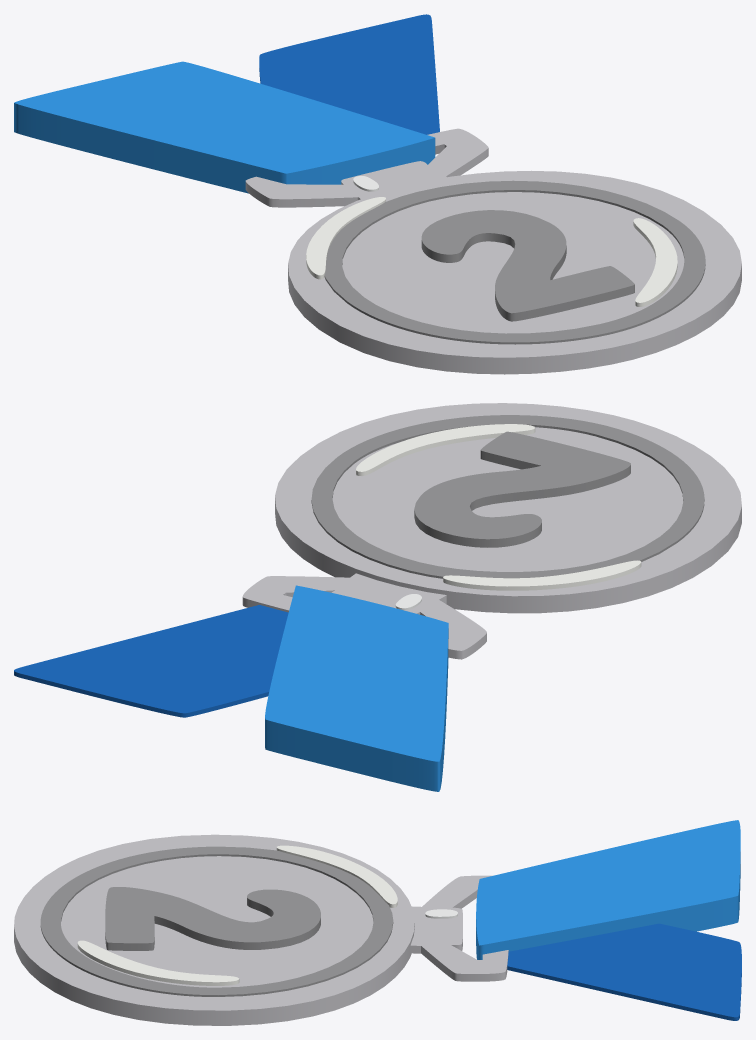
Rendered from emoji_u1f948.glb.
3 renders of one model, top to bottom at view 1: azimuth 30°, elevation 25°; view 2: azimuth 150°, elevation 25°; view 3: azimuth 270°, elevation 25°, orthographic. The views are drawn at different scales.
Parts seen in each view (by area): view 1: emoji_u1f948; view 2: emoji_u1f948; view 3: emoji_u1f948.
Boxes of the visible parts, x1,y1,x2,y2 form: emoji_u1f948: (14, 14, 741, 374); emoji_u1f948: (14, 403, 741, 791); emoji_u1f948: (14, 820, 741, 1025).
Bounding box in the file's own units: 0.0207 × 0.0016 × 0.0344.
